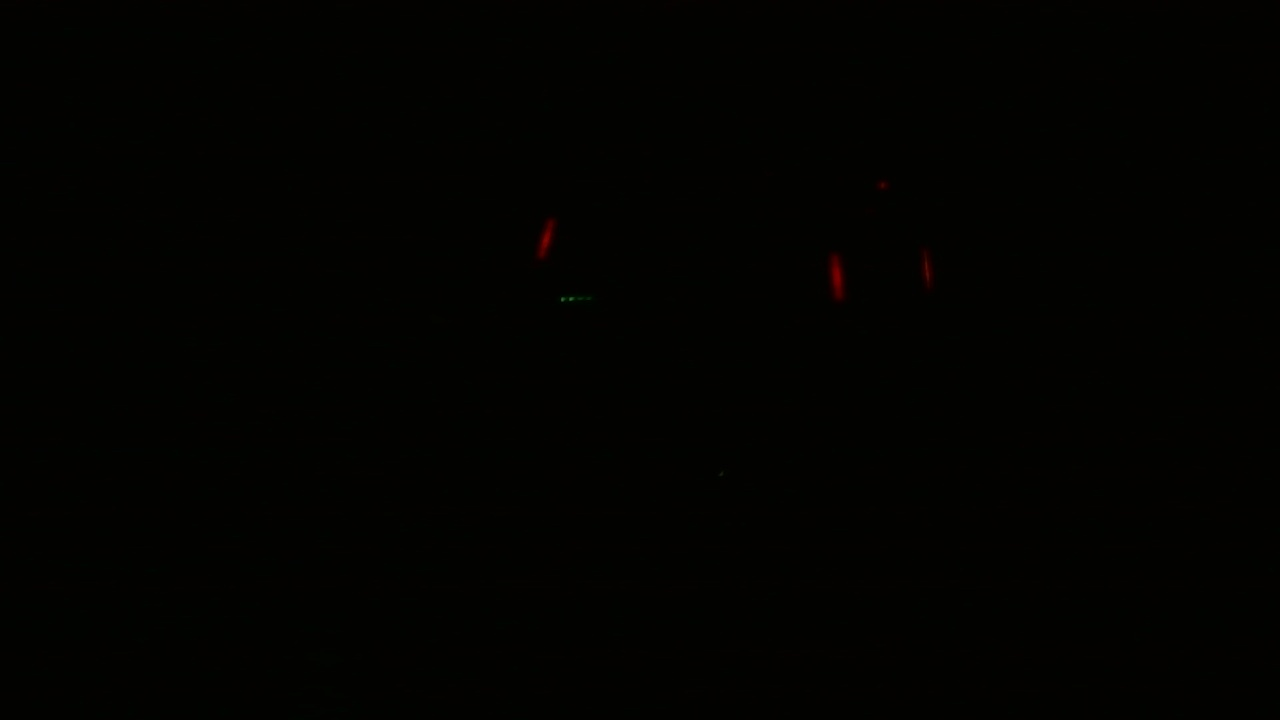pair1: (826, 249, 936, 306)
